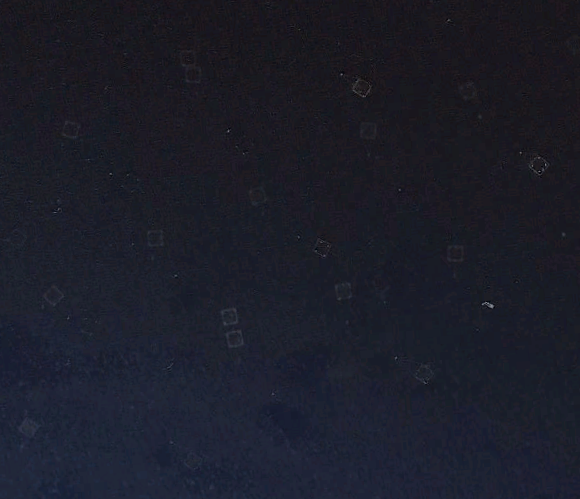square: (14, 413, 46, 443), (440, 237, 473, 266), (524, 147, 554, 177), (411, 355, 438, 388), (309, 230, 337, 261), (39, 278, 68, 307), (243, 180, 270, 207), (142, 223, 169, 250), (59, 115, 86, 142), (331, 277, 357, 304), (217, 302, 243, 328), (182, 63, 209, 88), (351, 71, 373, 101), (356, 116, 381, 142), (222, 326, 249, 349), (176, 44, 200, 69), (458, 76, 479, 101)
